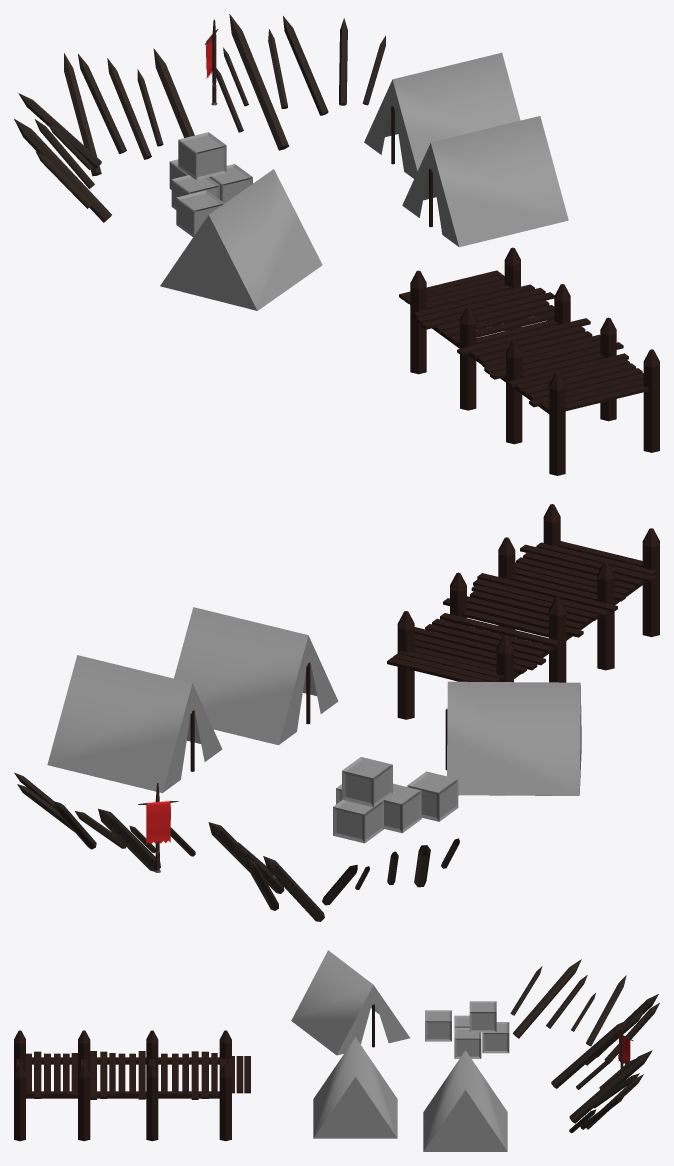
The model's file is RAT_Base.FBX.
The picture shows the model from 3 angles, top to bottom: view 1: azimuth 30°, elevation 25°; view 2: azimuth 150°, elevation 25°; view 3: azimuth 270°, elevation 25°; orthographic projection. The views are drawn at different scales.
Parts seen in each view (by area): view 1: Box003; view 2: Box003; view 3: Box003.
Boxes of the visible parts, x1,y1,x2,y2 form: Box003: (14, 14, 659, 475); Box003: (14, 504, 659, 921); Box003: (14, 950, 659, 1151).
Size of the model in its own units: 30 by 9.63 by 54.63.
